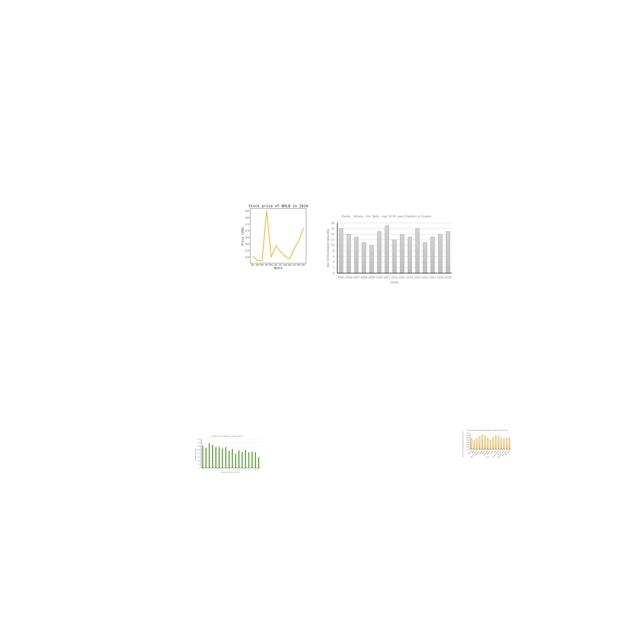Graph: (324, 212, 454, 286), (230, 200, 324, 271), (193, 434, 262, 475), (461, 429, 512, 460)
